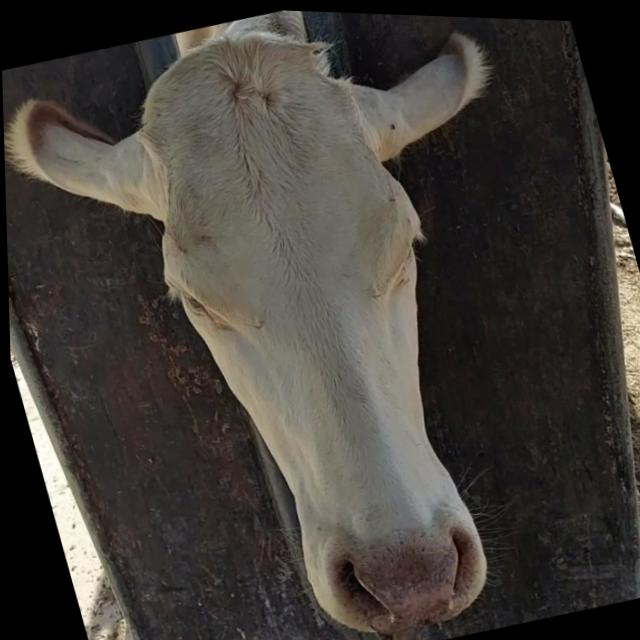cowFace: (102, 3, 524, 640)
